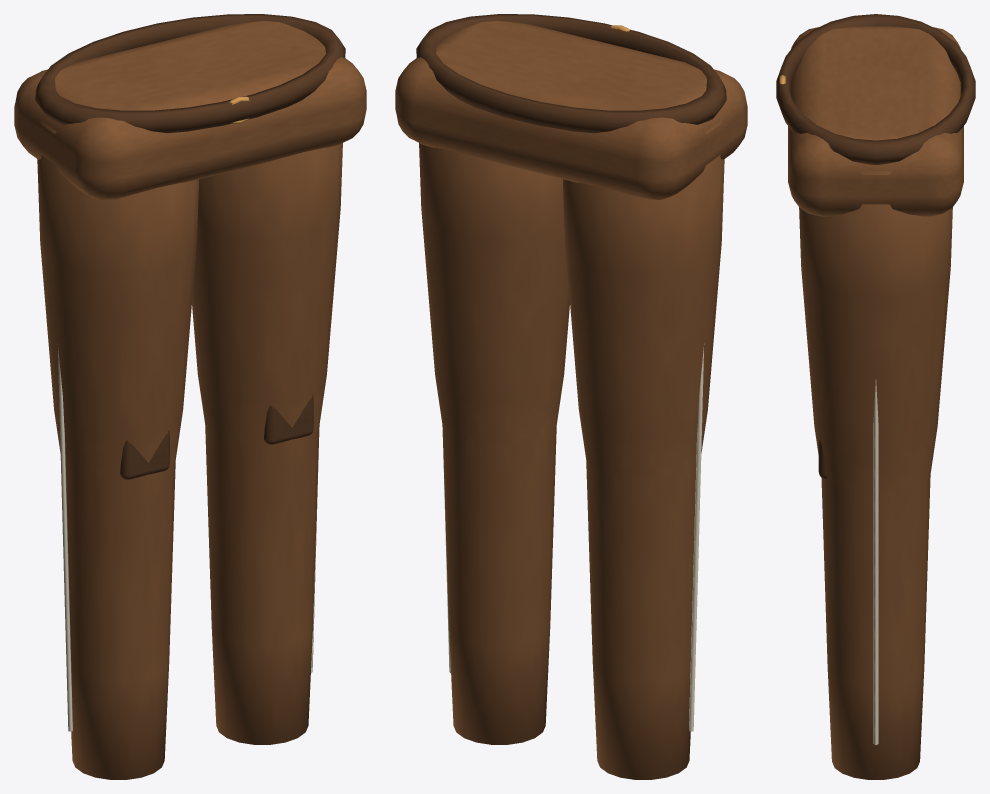
Rendered from platelegs_leather.glb.
The picture shows the model from 3 angles, left to right: view 1: azimuth 30°, elevation 25°; view 2: azimuth 150°, elevation 25°; view 3: azimuth 270°, elevation 25°; orthographic projection. The views are drawn at different scales.
Visible parts, largest first — view 1: platelegs_leather; view 2: platelegs_leather; view 3: platelegs_leather.
Boxes of the visible parts, bbox=[...] form: platelegs_leather: bbox=[14, 14, 366, 779]; platelegs_leather: bbox=[395, 14, 747, 779]; platelegs_leather: bbox=[776, 14, 975, 779].
Bounding box in the file's own units: 0.368 × 0.816 × 0.2265.
4 materials, 3 textured.
